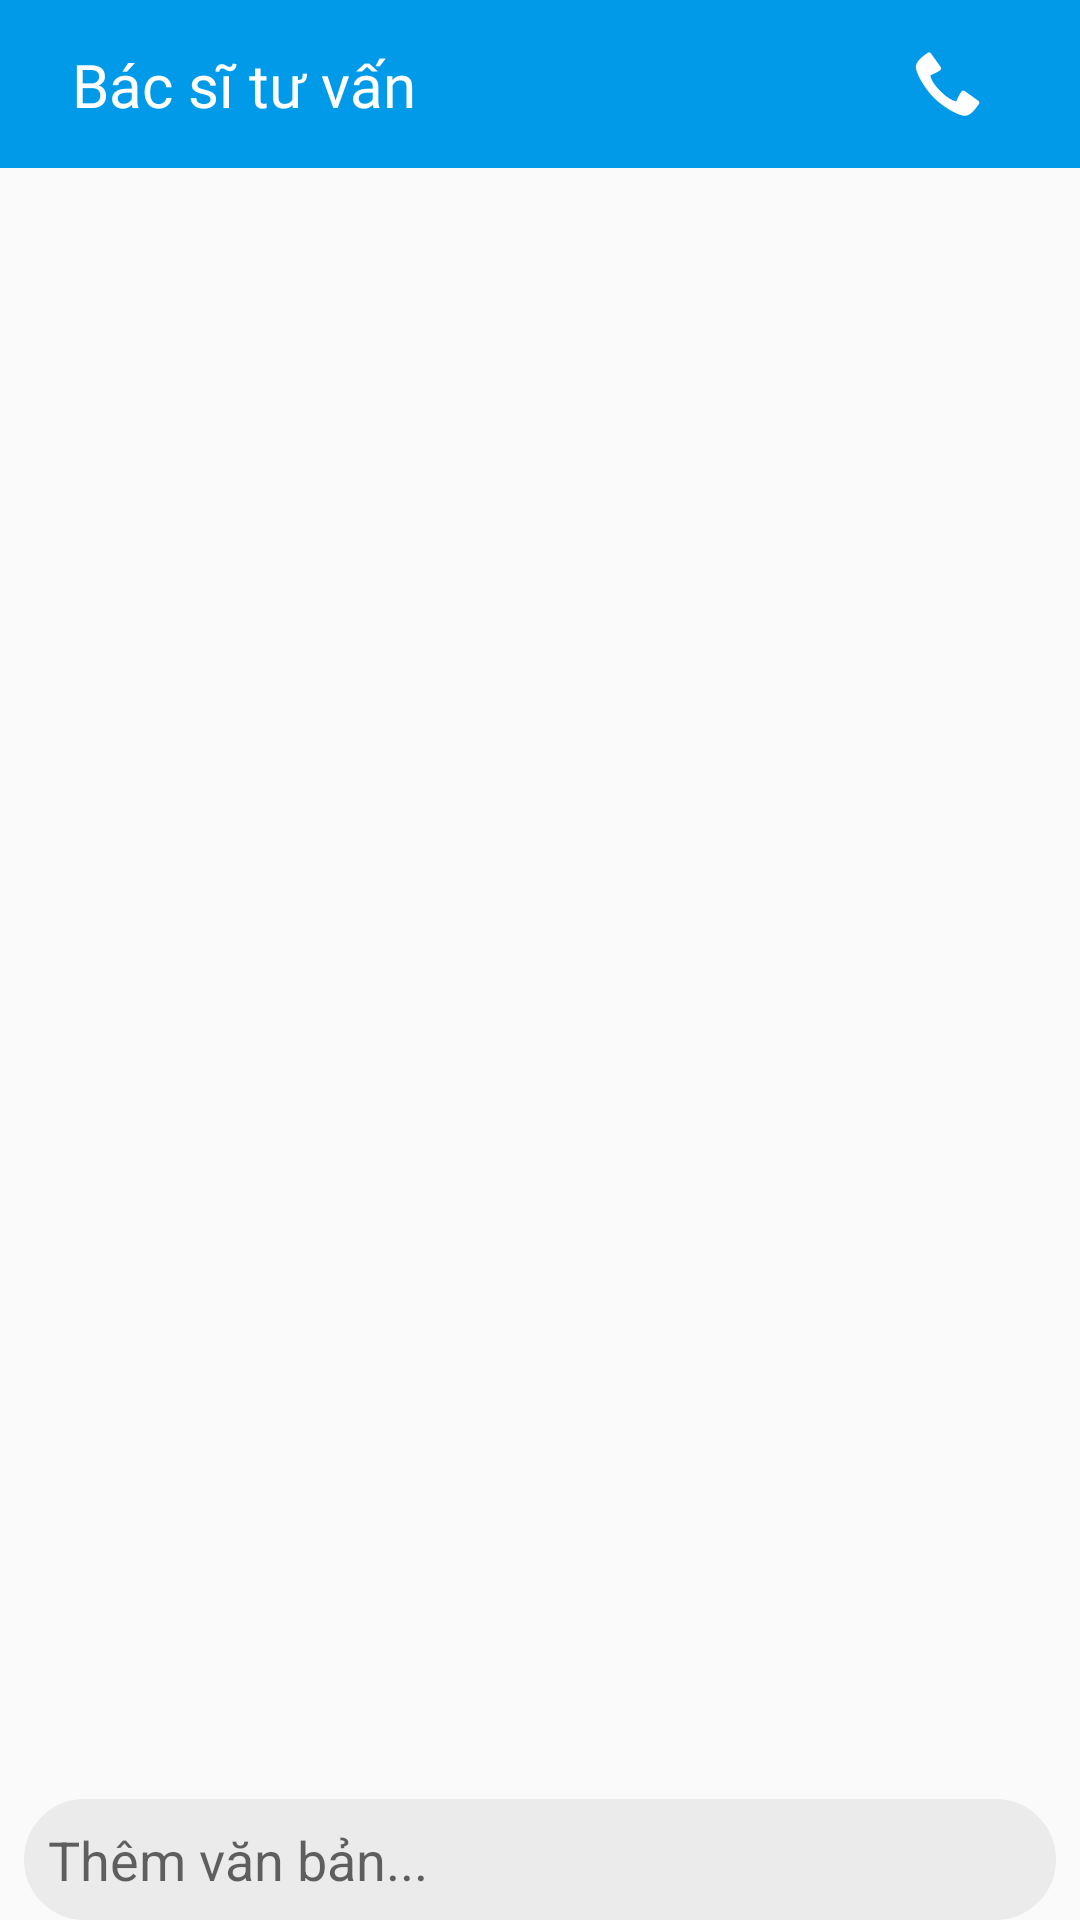

Named icons in this screenshot (1080px x 1920px) and their centers, (x,y):
phone call: (948,84)
